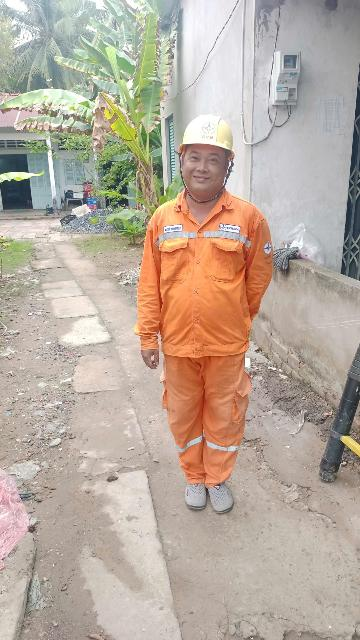helmet: (181, 115, 249, 161)
shoes: (208, 478, 234, 516), (183, 473, 204, 520)
